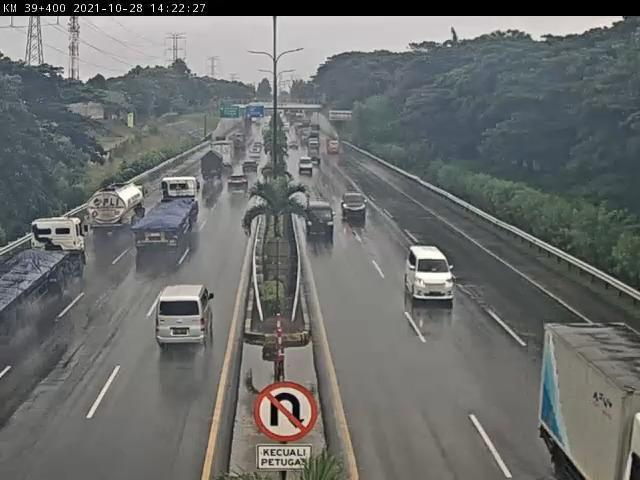car: (152, 282, 215, 348), (398, 240, 454, 300), (303, 196, 335, 236), (339, 188, 367, 216), (227, 175, 250, 193), (240, 160, 260, 176), (298, 156, 314, 174)
truck: (0, 218, 84, 326), (130, 176, 198, 253), (85, 182, 143, 230), (199, 150, 223, 182)
